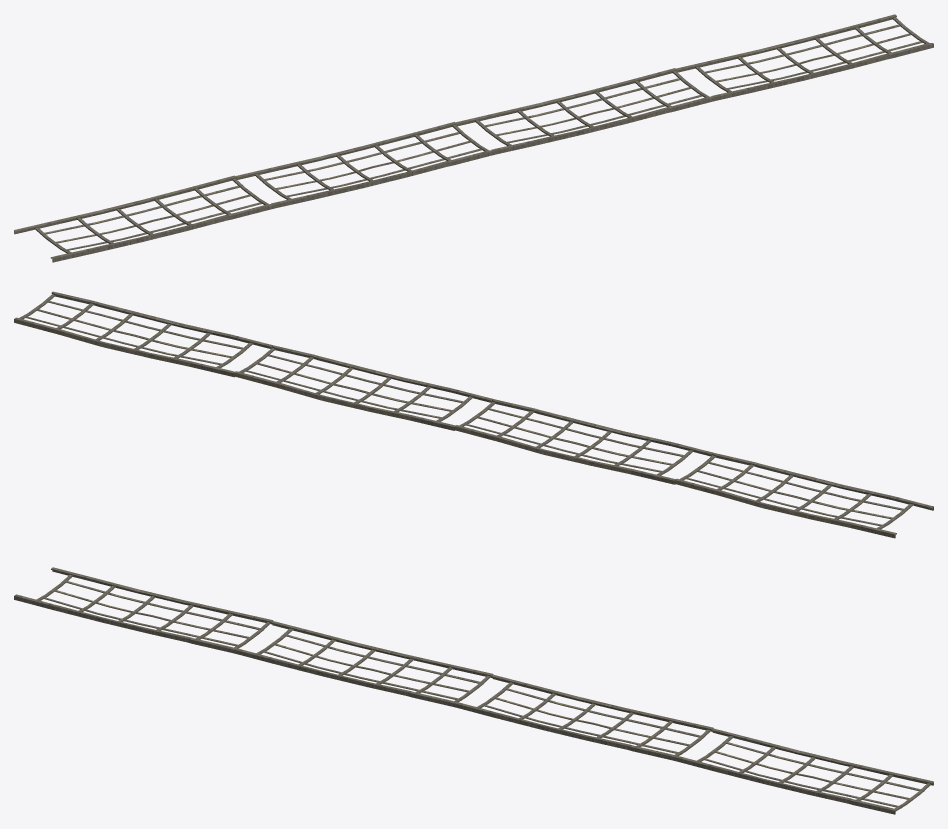
The model's file is Grid_Ceiling_04.fbx.
3 views of the same model, one above another, from view 1: azimuth 30°, elevation 25°; view 2: azimuth 150°, elevation 25°; view 3: azimuth 330°, elevation 25° (orthographic).
Parts seen in each view (by area): view 1: Grid_Ceiling_04; view 2: Grid_Ceiling_04; view 3: Grid_Ceiling_04.
Boxes of the visible parts, left/top/right/bottom form: Grid_Ceiling_04: left=14, top=14, right=933, bottom=262; Grid_Ceiling_04: left=14, top=291, right=933, bottom=538; Grid_Ceiling_04: left=14, top=567, right=933, bottom=814.
Bounding box in the file's own units: 5233 × 43.02 × 415.
